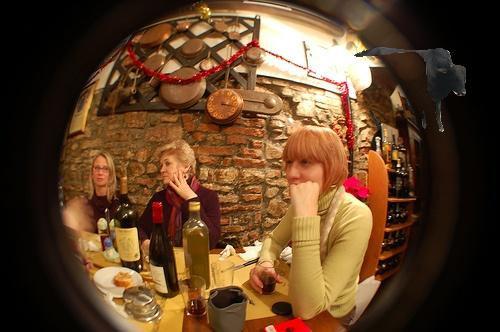tampered: (355, 47, 466, 132)
